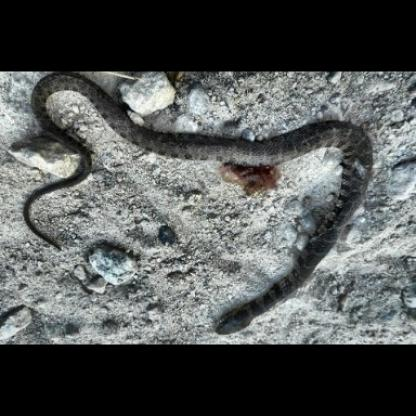Snake: (6, 77, 402, 344)
